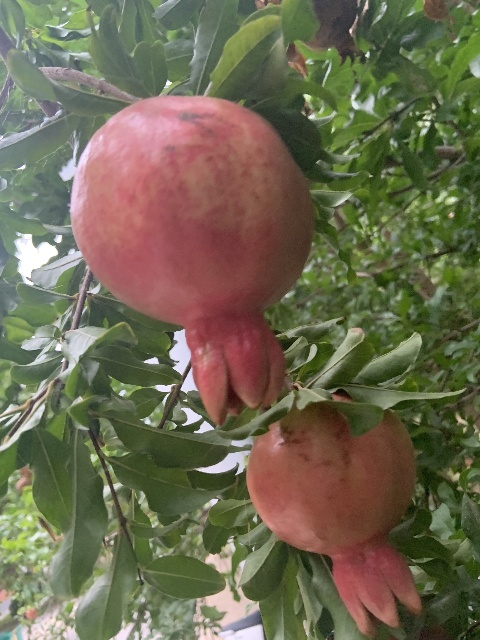ripe: (68, 96, 317, 424), (245, 390, 421, 636)
